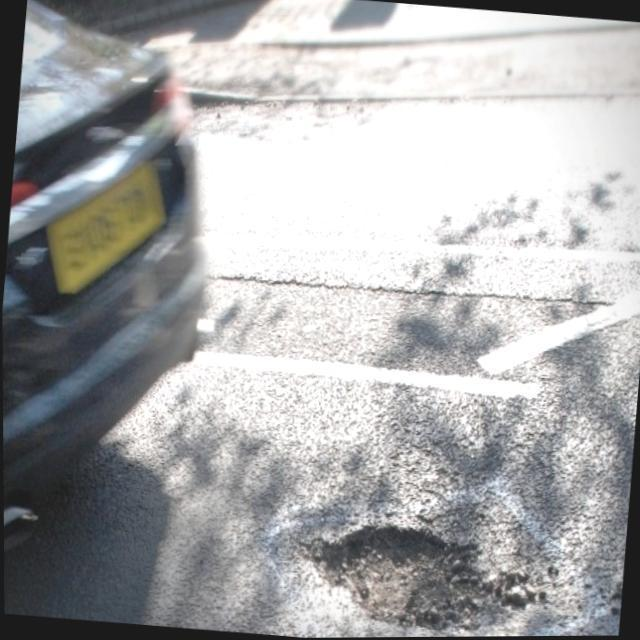Pothole: (305, 523, 524, 632)
